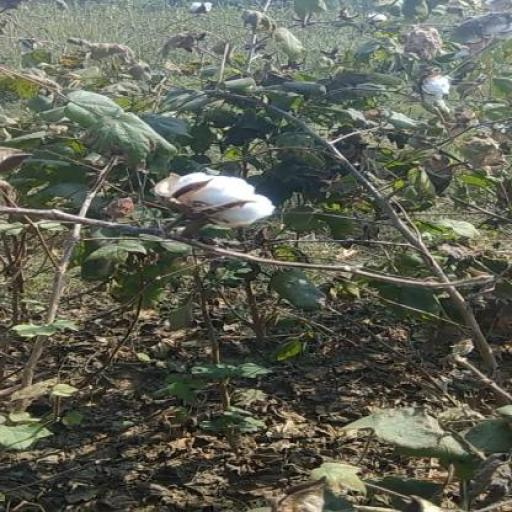cotton_ready: (164, 162, 288, 240)
